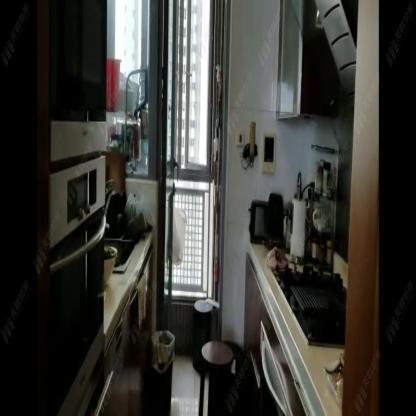Cupboard: (277, 2, 342, 118)
Oven: (48, 1, 108, 415)
Sink: (109, 237, 135, 269)
Stove: (270, 264, 349, 349)
